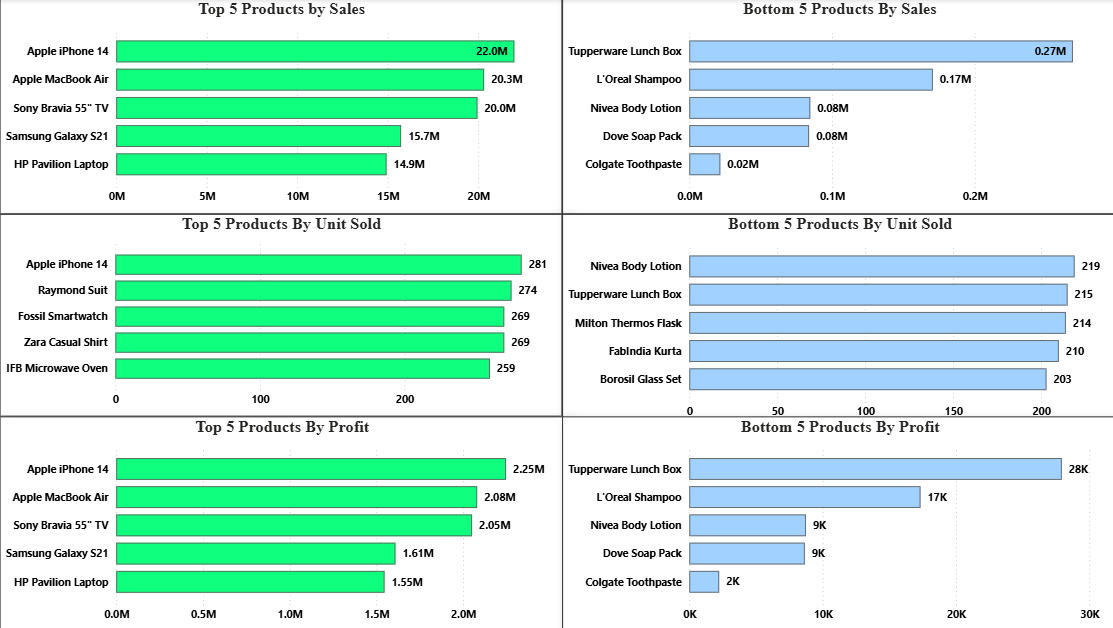

The dashboard page shown, as its layout file describes it:
{"tool":"powerbi","page":{"name":"top 5 products by sales/quantity sold & Profit","canvas":[1280,720],"ordinal":1},"visuals":[{"type":"barChart","title":"Top 5 Products by Sales ","fields":{"Category":["Dim Product.Product Name"],"Y":["Sum(FactTable.Net_Sales)"]},"box":[10,0,640,244.6],"z":0},{"type":"barChart","title":"Bottom 5 Products By Sales","fields":{"Category":["Dim Product.Product Name"],"Y":["Sum(FactTable.Net_Sales)"]},"box":[650,0,630,244.6],"z":1000},{"type":"barChart","title":"Top 5 Products By Unit Sold","fields":{"Category":["Dim Product.Product Name"],"Y":["Sum(FactTable.Units Sold)"]},"box":[10,244.6,640,230.4],"z":2000},{"type":"barChart","title":"Bottom 5 Products By Unit Sold","fields":{"Category":["Dim Product.Product Name"],"Y":["Sum(FactTable.Units Sold)"]},"box":[649.3,244.6,631,244.6],"z":3000},{"type":"barChart","title":"Top 5 Products By Profit","fields":{"Category":["Dim Product.Product Name"],"Y":["Sum(FactTable.Profit)"]},"box":[10,475,641.4,244.6],"z":4000},{"type":"barChart","title":"Bottom 5 Products By Profit","fields":{"Category":["Dim Product.Product Name"],"Y":["Sum(FactTable.Profit)"]},"box":[649.3,475.7,631,244.6],"z":5000}]}

Visuals, with their boxes in screenshot pixels (x1, y1, x2, y2), scaled from the page's 1280x720 canvas onto the 1113x628 screenshot:
"Top 5 Products by Sales " barChart: rect(9, 0, 565, 213)
"Bottom 5 Products By Sales" barChart: rect(565, 0, 1112, 213)
"Top 5 Products By Unit Sold" barChart: rect(9, 213, 565, 414)
"Bottom 5 Products By Unit Sold" barChart: rect(565, 213, 1112, 427)
"Top 5 Products By Profit" barChart: rect(9, 414, 566, 627)
"Bottom 5 Products By Profit" barChart: rect(565, 415, 1112, 627)
